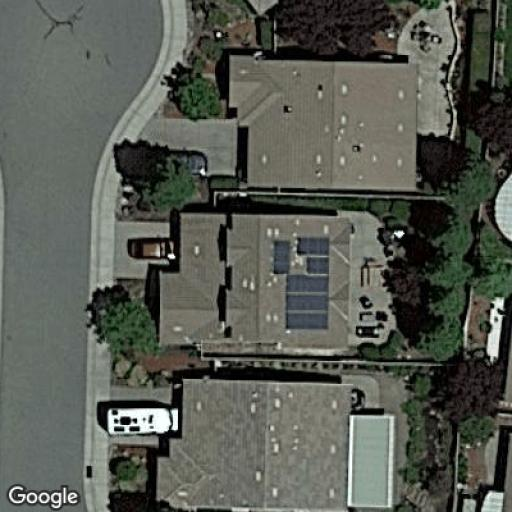solar-panel: (270, 233, 333, 333)
